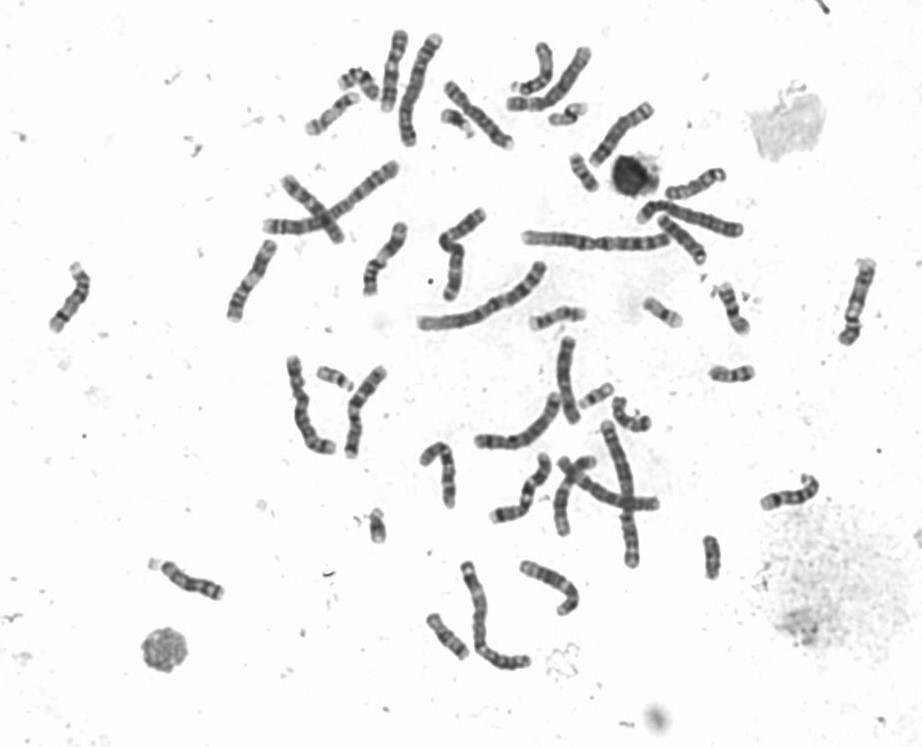chromosomes: (263, 155, 401, 239), (413, 258, 553, 336), (456, 559, 538, 671), (598, 417, 646, 569), (553, 453, 660, 519), (504, 48, 599, 119), (628, 197, 755, 250), (394, 27, 448, 149), (282, 354, 342, 463), (441, 80, 521, 159), (467, 391, 565, 454), (514, 223, 676, 261), (481, 449, 554, 530), (219, 235, 283, 326), (279, 172, 346, 250), (341, 365, 394, 460), (589, 103, 661, 172), (436, 205, 486, 304), (829, 255, 880, 352), (139, 551, 229, 604), (48, 258, 100, 339), (553, 452, 600, 539), (517, 559, 585, 618), (361, 221, 409, 301), (653, 210, 712, 271), (375, 25, 415, 114), (415, 437, 461, 514), (756, 473, 825, 516), (662, 164, 742, 201), (422, 609, 472, 665), (509, 38, 556, 97), (304, 92, 364, 138), (555, 336, 584, 424), (713, 279, 751, 343), (611, 391, 655, 437), (640, 293, 687, 333), (526, 306, 593, 334), (567, 150, 603, 201), (337, 68, 385, 106), (542, 101, 591, 135), (436, 105, 477, 144), (697, 535, 726, 589), (314, 366, 357, 395), (579, 380, 620, 410), (705, 363, 757, 386), (367, 506, 393, 544)
